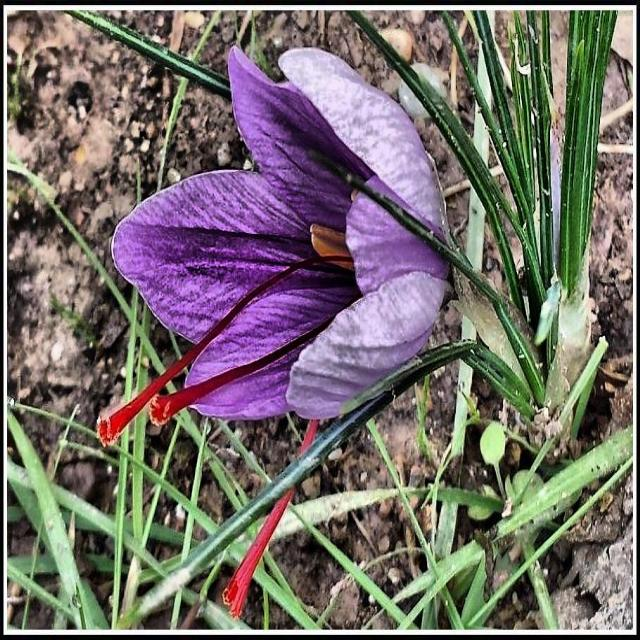Flower: (93, 41, 454, 624)
stigma: (99, 217, 351, 450), (221, 379, 382, 632), (145, 316, 383, 430)
